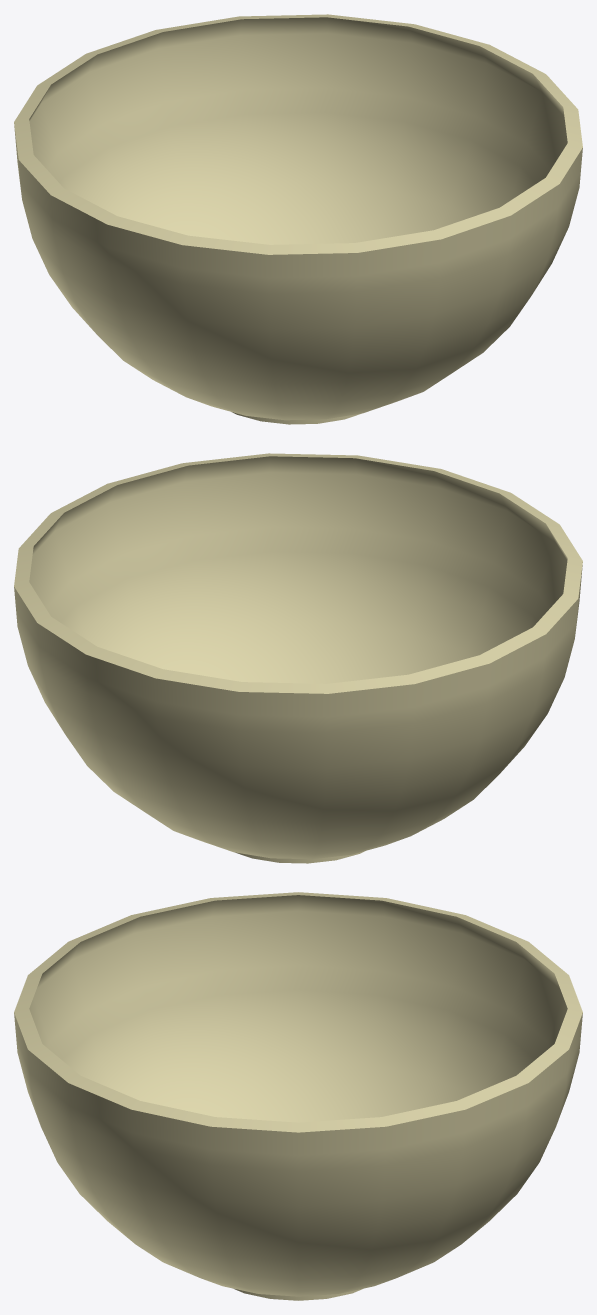
The model's file is bowl.fbx.
3 renders of one model, top to bottom at view 1: azimuth 30°, elevation 25°; view 2: azimuth 150°, elevation 25°; view 3: azimuth 270°, elevation 25°, orthographic.
Parts seen in each view (by area): view 1: pSphere1; view 2: pSphere1; view 3: pSphere1.
Part boxes in pixels (bbox=[...]): pSphere1: bbox=[14, 14, 582, 424]; pSphere1: bbox=[14, 453, 582, 863]; pSphere1: bbox=[14, 892, 582, 1300].
Bounding box in the file's own units: 14.81 × 7.31 × 14.81.
1 material, 1 textured.
